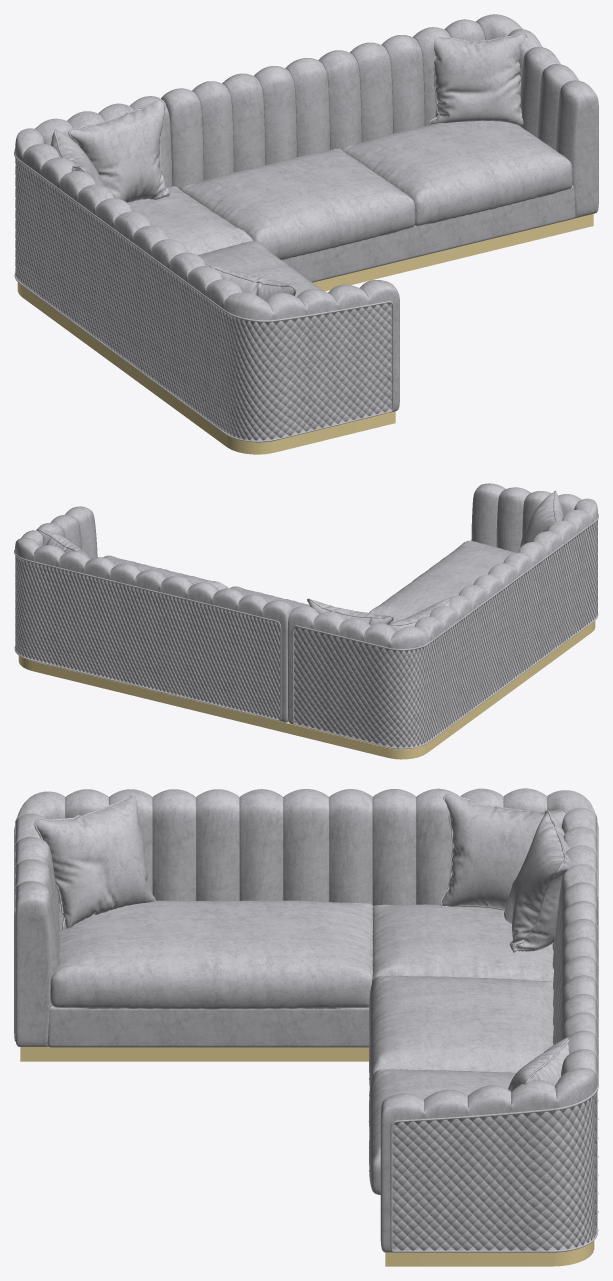
3 views of the same model, one above another, from view 1: azimuth 30°, elevation 25°; view 2: azimuth 150°, elevation 25°; view 3: azimuth 270°, elevation 25° (orthographic). The views are drawn at different scales.
Visible parts, largest first — view 1: Box082, Box085, Object035_Paddington-02_0, Object028_Paddington-02_0, Box071, Line001, Object032_Paddington-02_0, Object033_Paddington-02_0, Object030_Paddington-02_0, Object036_Paddington-02_0, Object034_Paddington-02_0; view 2: Box082, Box085, Line001, Object036_Paddington-02_0, Object032_Paddington-02_0, Object034_Paddington-02_0, Object028_Paddington-02_0, Object033_Paddington-02_0; view 3: Box082, Box085, Object036_Paddington-02_0, Object035_Paddington-02_0, Object032_Paddington-02_0, Box072, Object030_Paddington-02_0, Object034_Paddington-02_0, Line001, Object028_Paddington-02_0, Object033_Paddington-02_0.
Part boxes in pixels (left/top/right/bottom): Box082: left=14, top=96, right=399, bottom=442; Box085: left=161, top=14, right=598, bottom=218; Object035_Paddington-02_0: left=180, top=148, right=415, bottom=260; Object028_Paddington-02_0: left=341, top=120, right=572, bottom=226; Box071: left=282, top=185, right=575, bottom=282; Line001: left=17, top=214, right=593, bottom=454; Object032_Paddington-02_0: left=51, top=99, right=169, bottom=202; Object033_Paddington-02_0: left=429, top=32, right=527, bottom=125; Object030_Paddington-02_0: left=128, top=186, right=253, bottom=255; Object036_Paddington-02_0: left=198, top=241, right=322, bottom=296; Object034_Paddington-02_0: left=209, top=265, right=296, bottom=300; Box082: left=287, top=483, right=598, bottom=749; Box085: left=14, top=506, right=294, bottom=722; Line001: left=18, top=621, right=595, bottom=759; Object036_Paddington-02_0: left=369, top=540, right=515, bottom=623; Object032_Paddington-02_0: left=307, top=597, right=450, bottom=631; Object034_Paddington-02_0: left=520, top=490, right=563, bottom=547; Object028_Paddington-02_0: left=103, top=555, right=227, bottom=590; Object033_Paddington-02_0: left=37, top=528, right=90, bottom=558; Box082: left=14, top=788, right=598, bottom=1046; Box085: left=380, top=882, right=598, bottom=1252; Object036_Paddington-02_0: left=50, top=900, right=373, bottom=1009; Object035_Paddington-02_0: left=368, top=975, right=553, bottom=1087; Object032_Paddington-02_0: left=440, top=793, right=573, bottom=952; Box072: left=47, top=1005, right=369, bottom=1047; Object030_Paddington-02_0: left=372, top=904, right=553, bottom=982; Object034_Paddington-02_0: left=34, top=794, right=155, bottom=929; Line001: left=20, top=1047, right=594, bottom=1266; Object028_Paddington-02_0: left=368, top=1069, right=515, bottom=1195; Object033_Paddington-02_0: left=508, top=1037, right=569, bottom=1091.
Size of the model in its own units: 3.03 by 0.912 by 2.52.
Materials: 2 (1 with a texture image).
